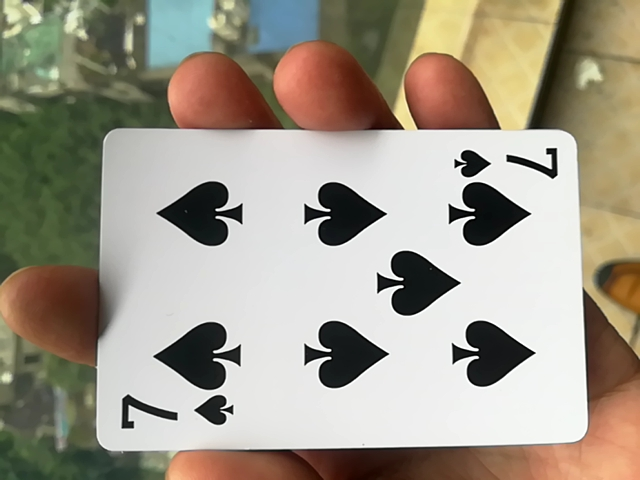ht 7: (81, 119, 580, 466)
